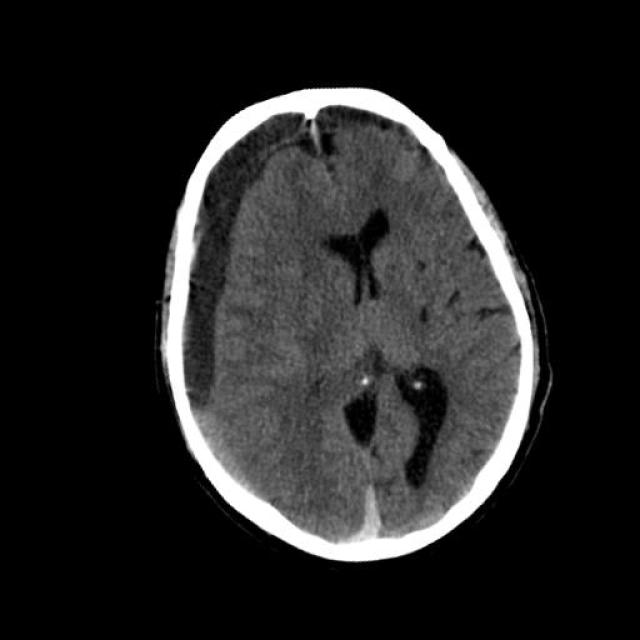Subdural: (291, 419, 425, 568), (164, 364, 274, 526)
